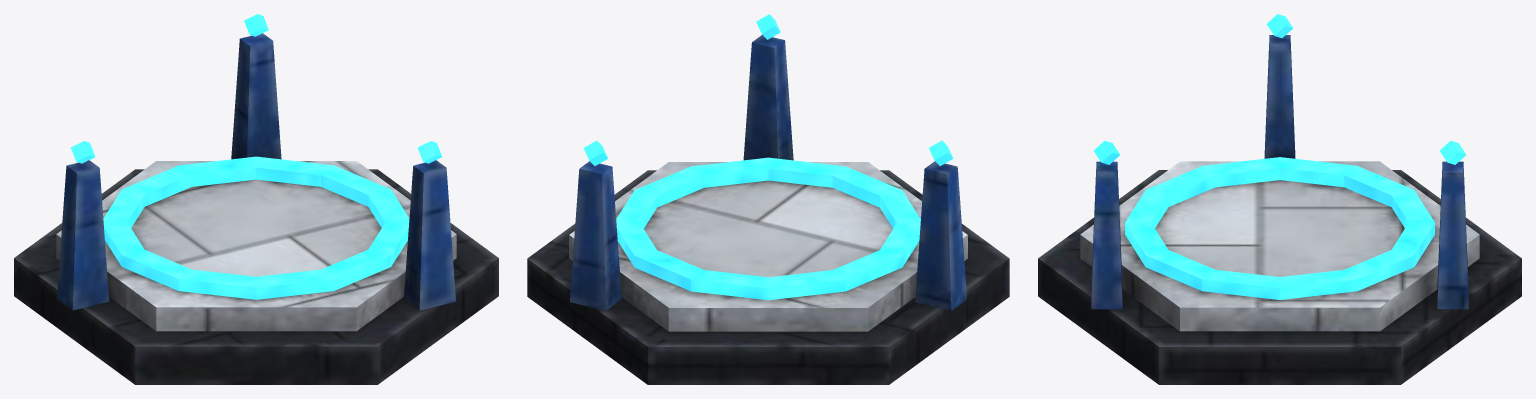
The model's file is u_arcbase2_w.glb.
3 renders of one model, left to right at view 1: azimuth 30°, elevation 25°; view 2: azimuth 150°, elevation 25°; view 3: azimuth 270°, elevation 25°, orthographic.
Visible parts, largest first — view 1: u_arcbase2_w; view 2: u_arcbase2_w; view 3: u_arcbase2_w.
Boxes of the visible parts, x1,y1,x2,y2 form: u_arcbase2_w: [14, 14, 498, 384]; u_arcbase2_w: [527, 14, 1009, 384]; u_arcbase2_w: [1038, 14, 1521, 384].
Bounding box in the file's own units: 0.9002 × 0.4572 × 1.01.
1 material, 1 textured.
